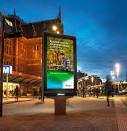board: (40, 30, 79, 116)
